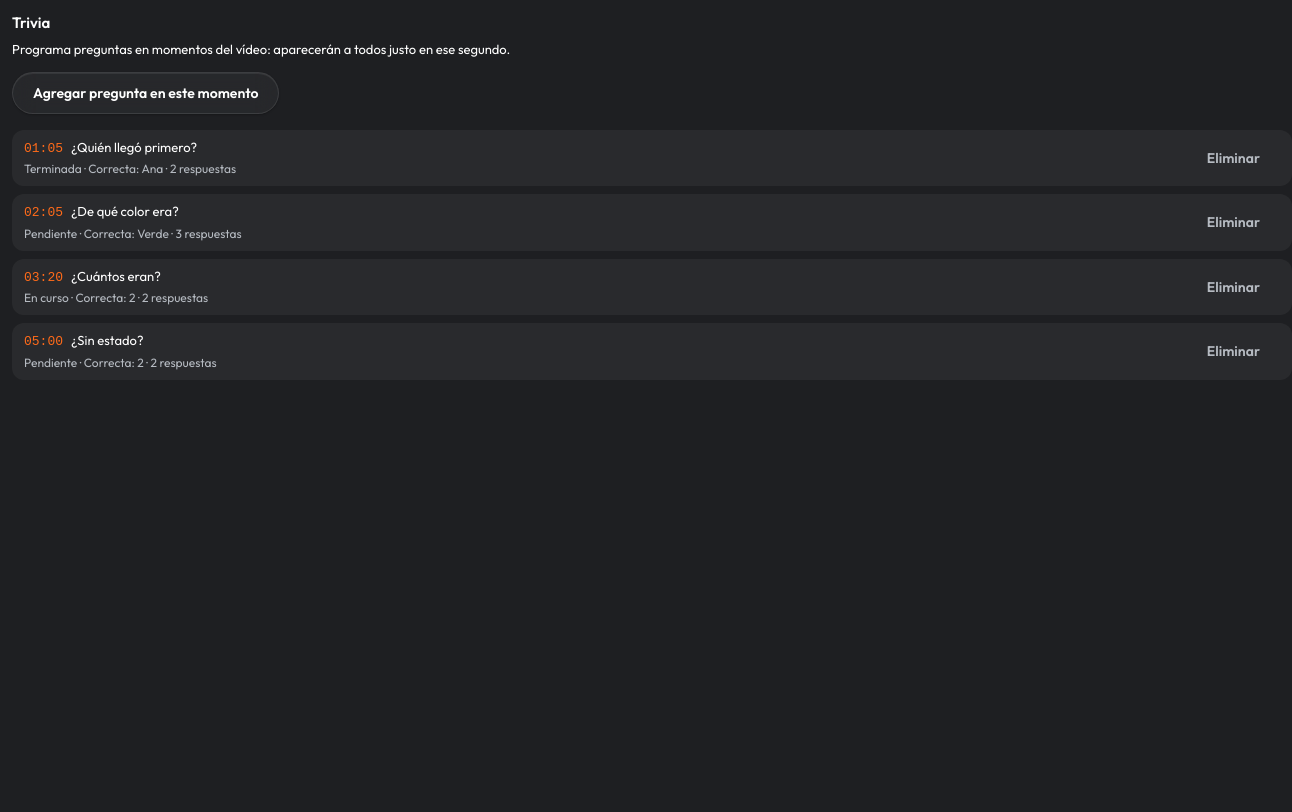
TriviaPanel — host › si el canal no está listo lo avisa sin cerrar el formulario
This screenshot has width=1292, height=812.
Click the button "Agregar pregunta en este momento" at (146, 93), box [12, 72, 280, 114]
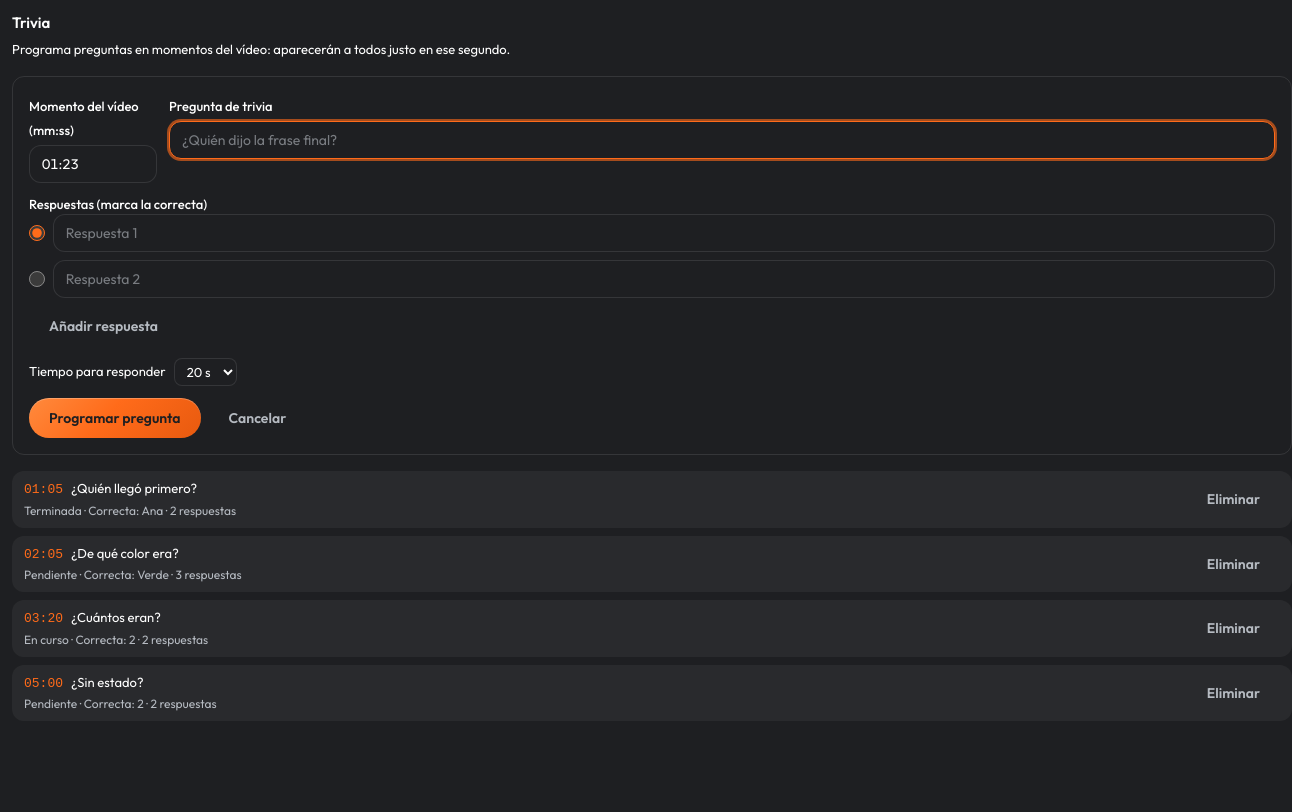
Type "¿Q?" into the field labelled "Pregunta de trivia" at (722, 140), box [169, 121, 1275, 159]
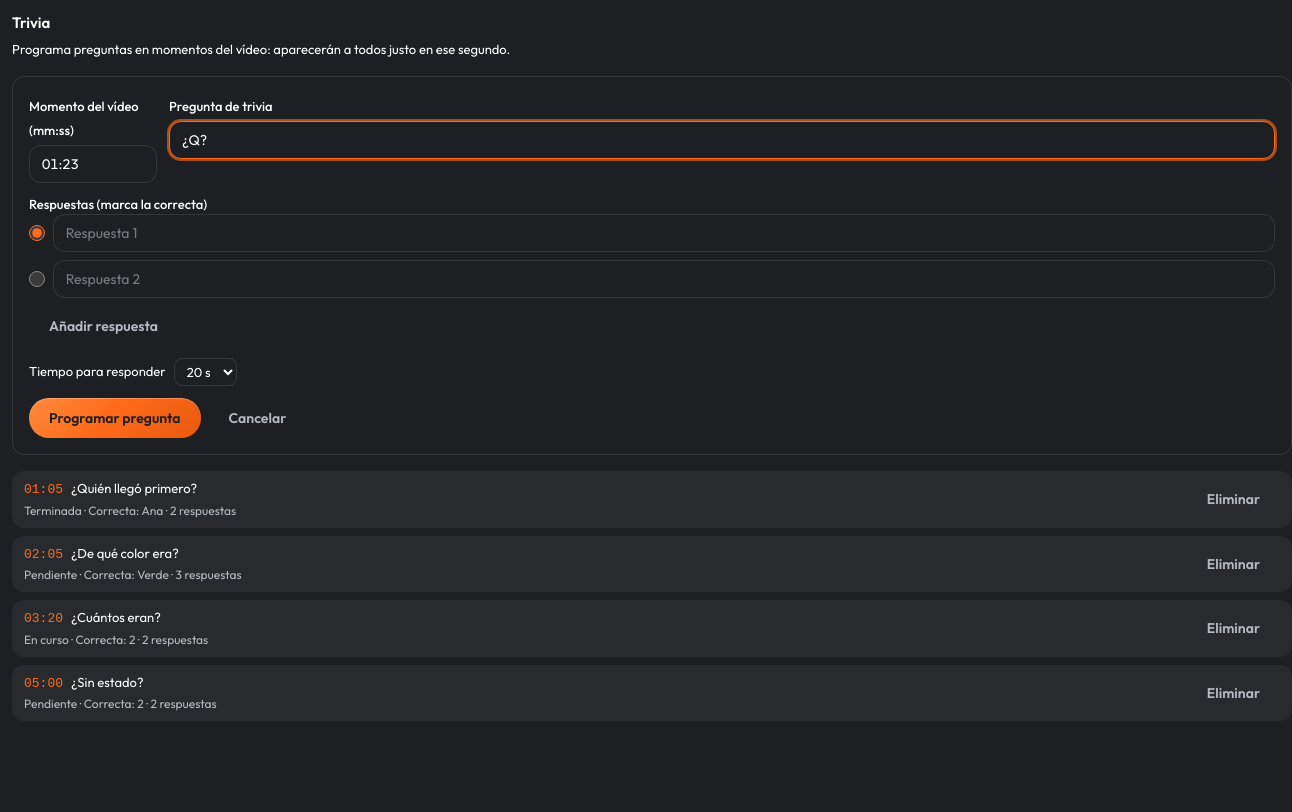
Type "a" into the field labelled "Respuesta 1" at (664, 233), box [53, 214, 1275, 252]
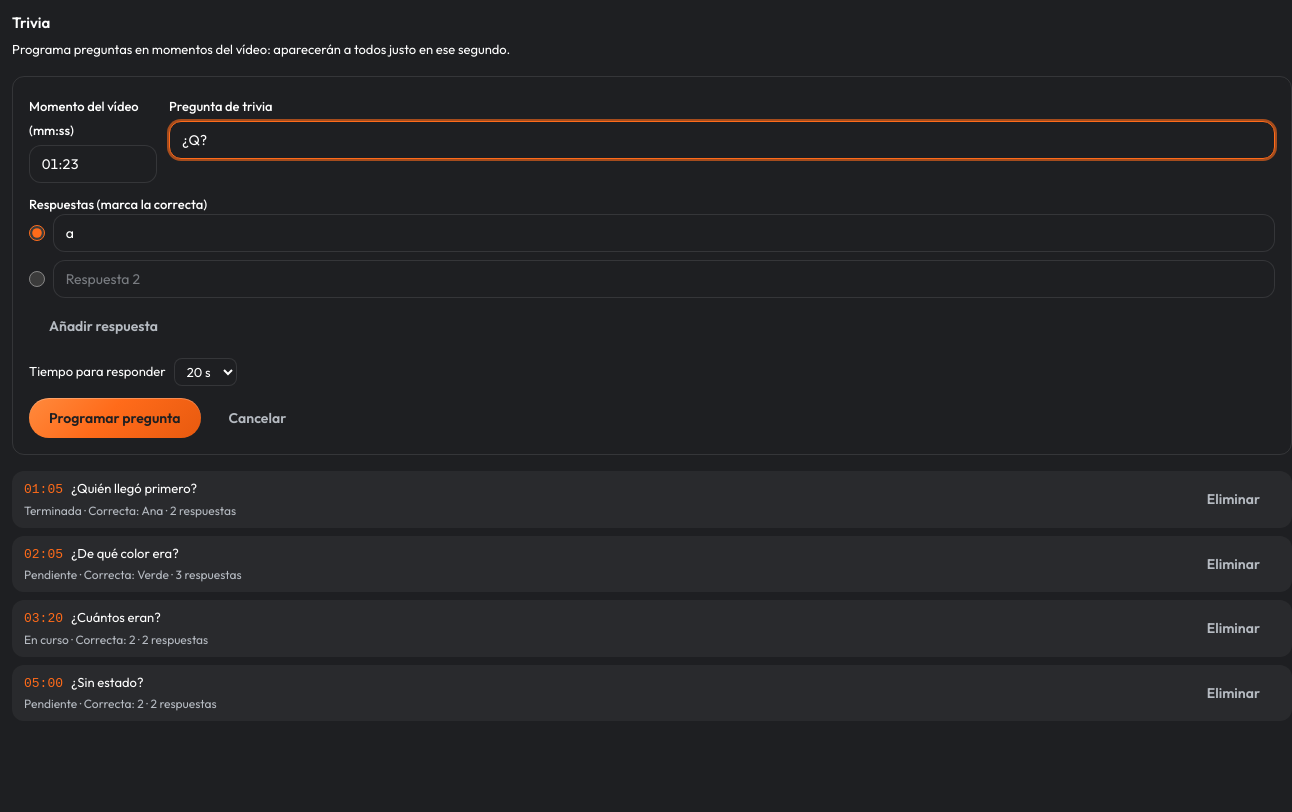
Type "b" into the field labelled "Respuesta 2" at (664, 279), box [53, 260, 1275, 298]
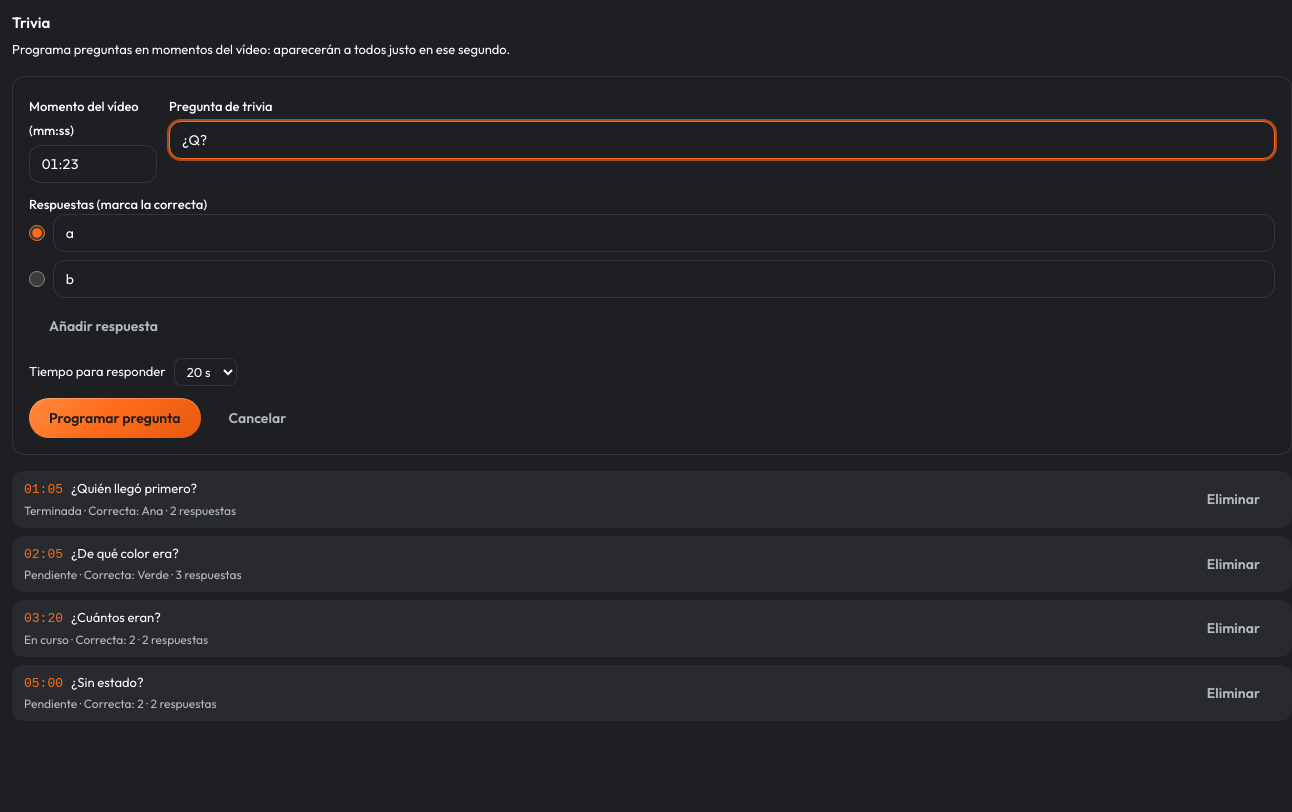
Click the button "Programar pregunta" at (115, 418), box [29, 398, 201, 438]
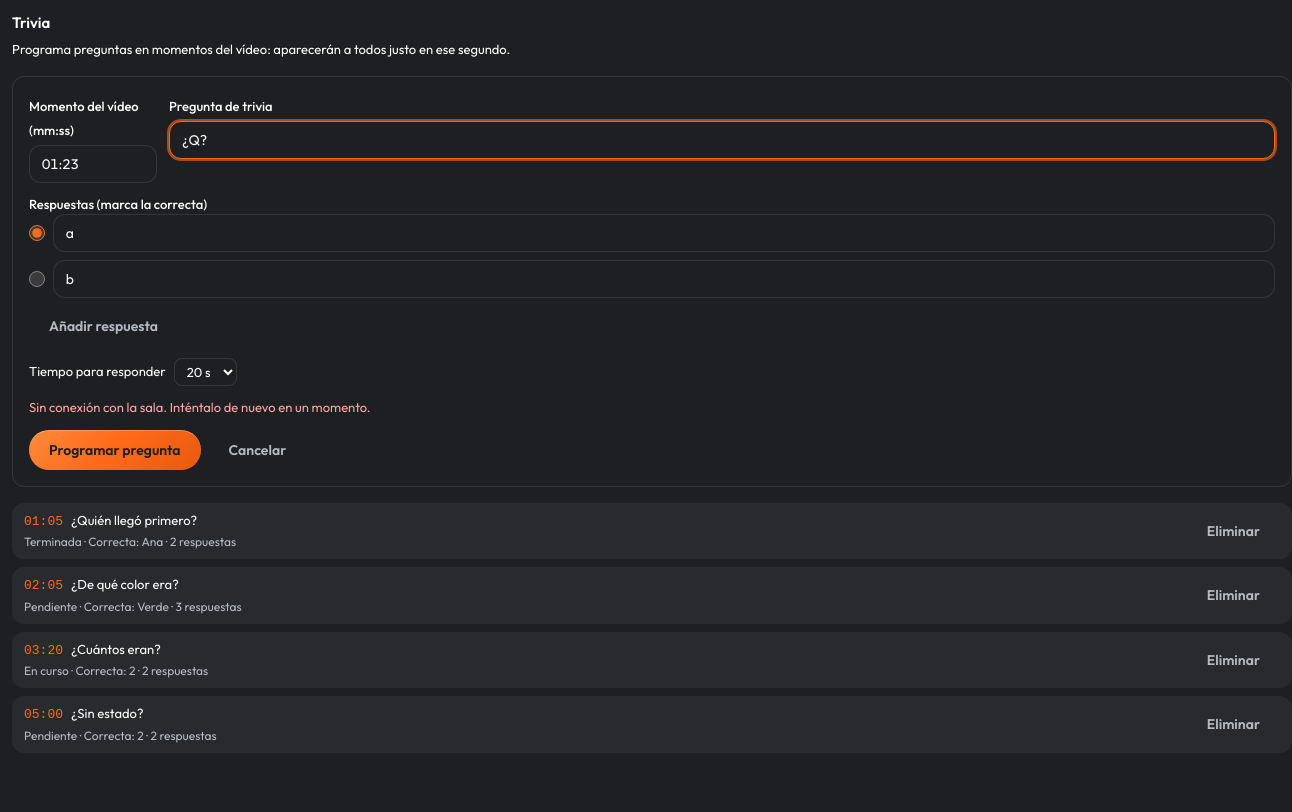
Expected: the message shows "conexión", [29, 399, 371, 415]
